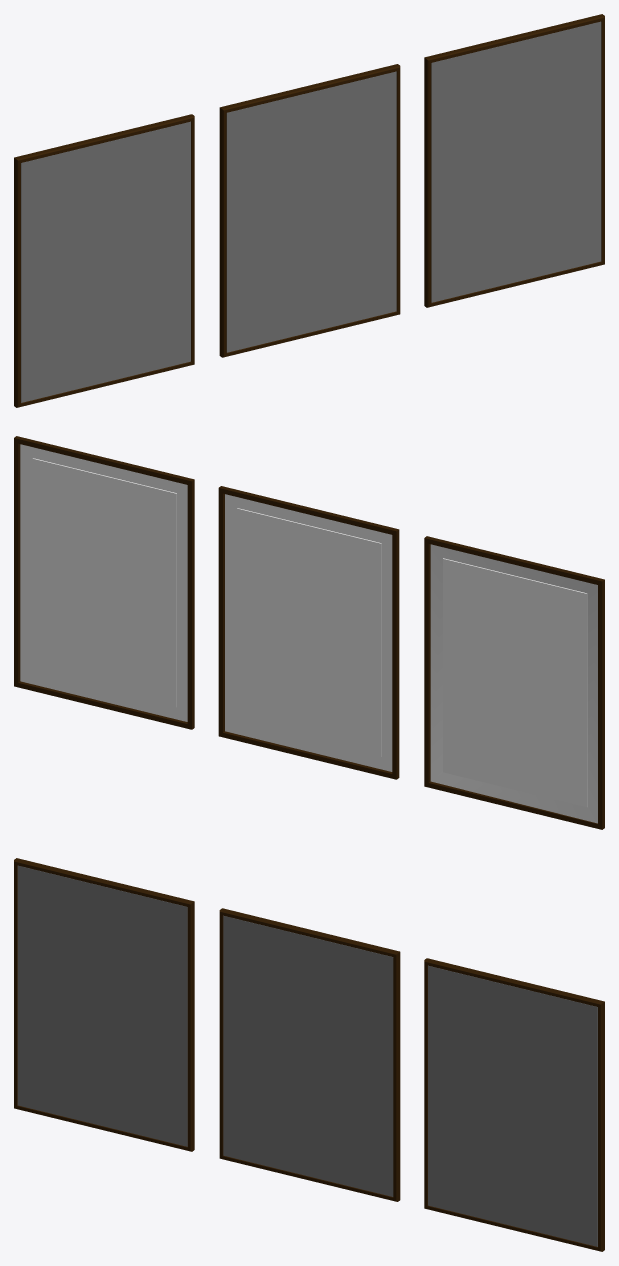
File: frames.glb
The picture shows the model from 3 angles, top to bottom: view 1: azimuth 30°, elevation 25°; view 2: azimuth 150°, elevation 25°; view 3: azimuth 330°, elevation 25°; orthographic projection.
Parts seen in each view (by area): view 1: Glass02, Glass03, Glass01, Picture frame 02, Picture frame 03, Picture frame 01; view 2: Picture frame 02, Picture frame 03, Picture frame 01; view 3: Glass01, Glass02, Glass03, Picture frame 02, Picture frame 01, Picture frame 03.
Boxes of the visible parts, x1,y1,x2,y2 form: Glass02: (226, 71, 396, 352); Glass03: (431, 21, 601, 302); Glass01: (21, 121, 190, 402); Picture frame 02: (219, 64, 400, 357); Picture frame 03: (424, 14, 604, 307); Picture frame 01: (14, 114, 194, 407); Picture frame 02: (218, 486, 399, 779); Picture frame 03: (14, 436, 194, 729); Picture frame 01: (424, 536, 604, 829); Glass01: (17, 865, 187, 1146); Glass02: (223, 915, 393, 1196); Glass03: (428, 965, 597, 1246); Picture frame 02: (219, 908, 400, 1201); Picture frame 01: (14, 858, 194, 1151); Picture frame 03: (424, 958, 604, 1251).
Bounding box in the file's own units: 0.9909 × 0.4 × 0.01.
